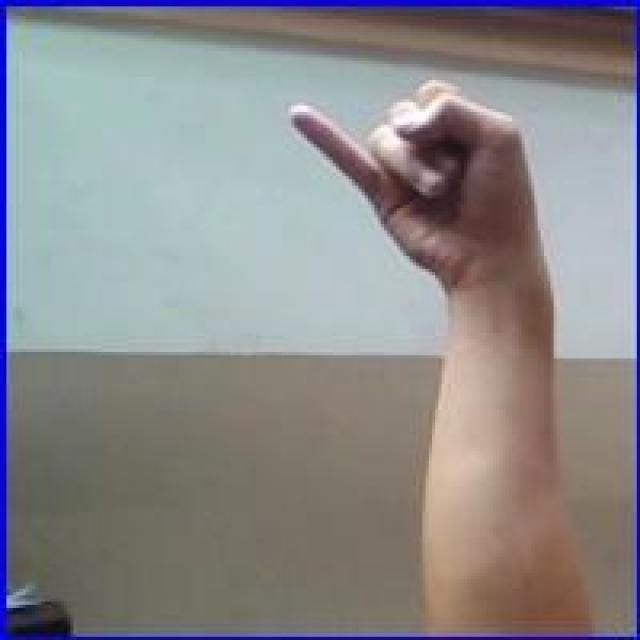J: (284, 72, 558, 286)
